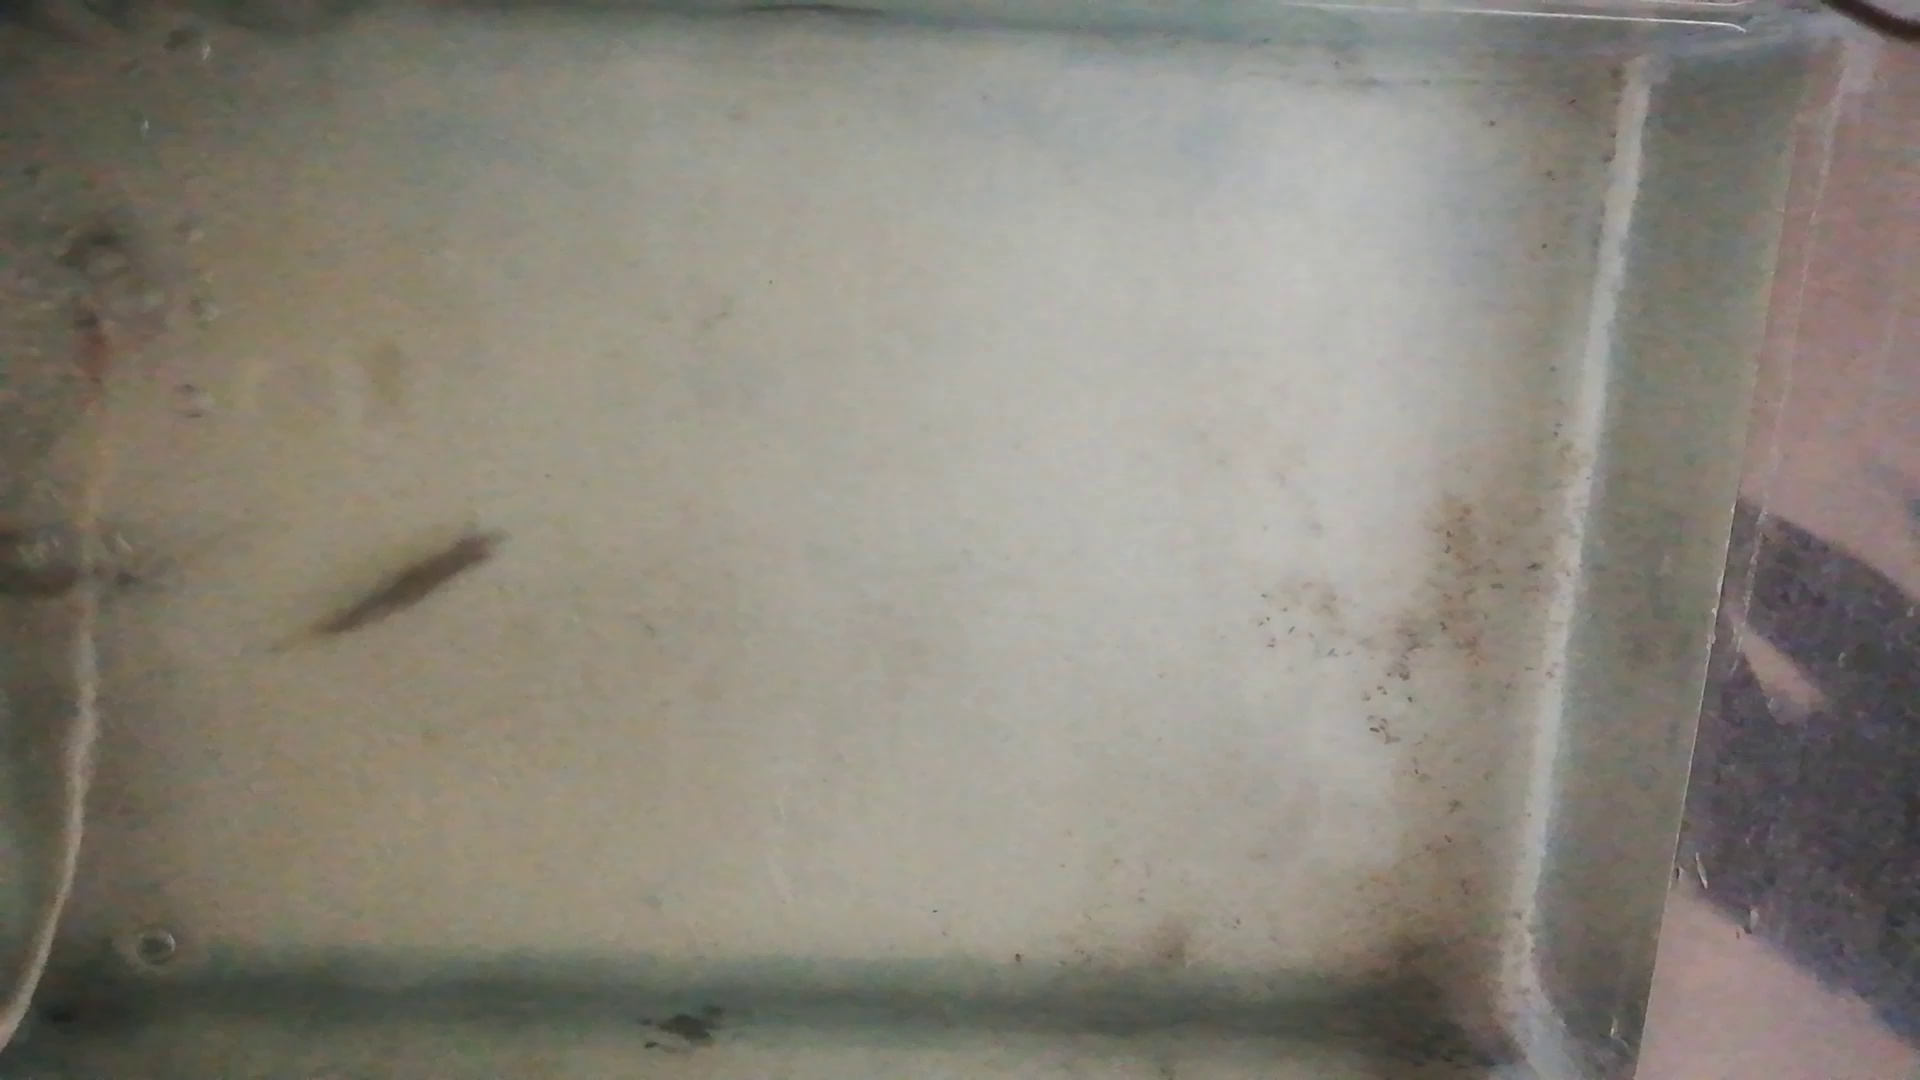fish: (313, 530, 498, 640), (3, 547, 144, 597)
